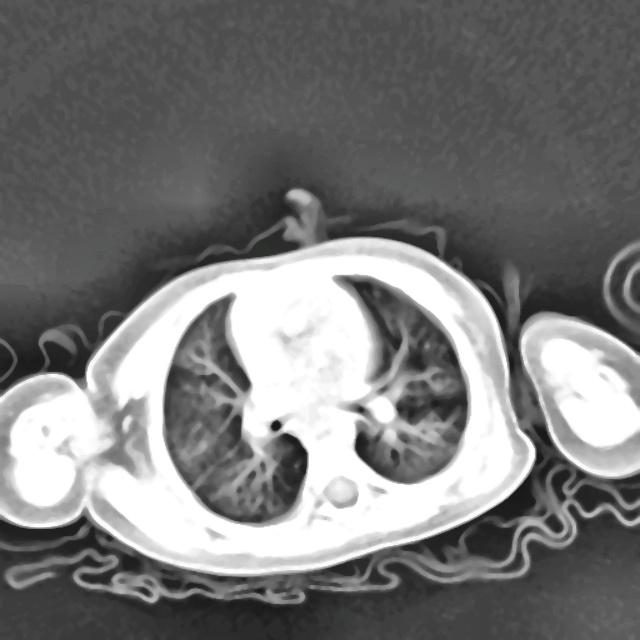covid: (0, 225, 538, 578)
